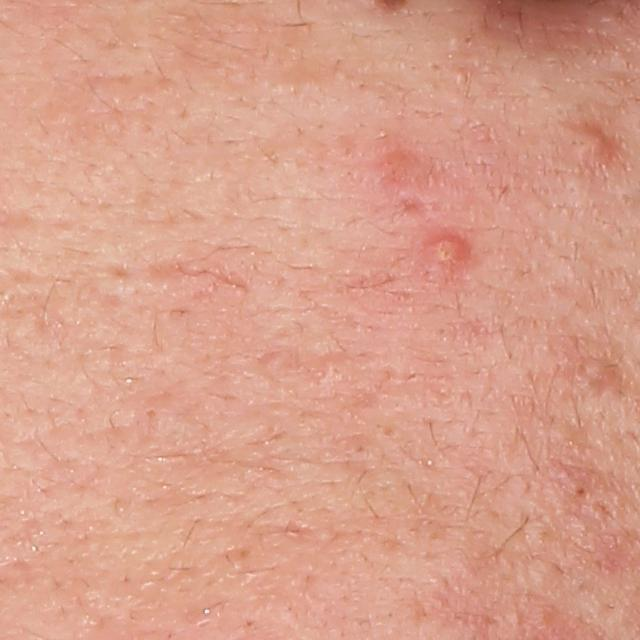comedo: (569, 481, 591, 500)
papule: (377, 141, 437, 183), (562, 122, 617, 161)
pustule: (419, 220, 473, 281)
